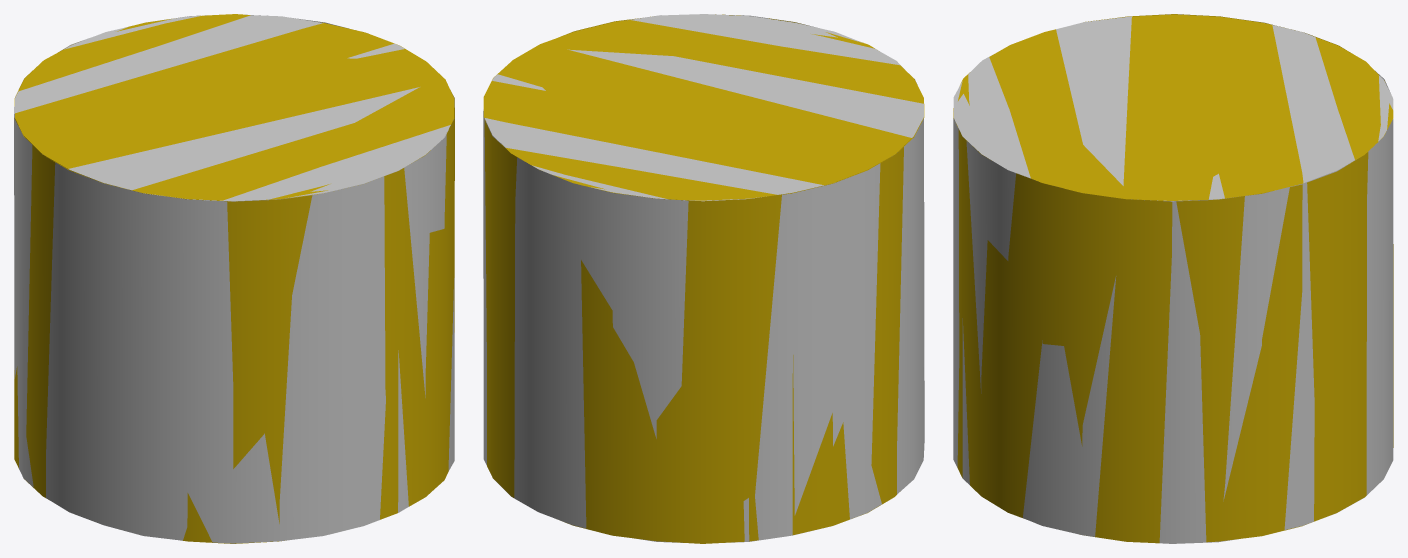
File: original-3.obj
3 renders of one model, left to right at view 1: azimuth 30°, elevation 25°; view 2: azimuth 150°, elevation 25°; view 3: azimuth 270°, elevation 25°, orthographic.
Visible parts, largest first — view 1: group_2/ID26#ID26; view 2: group_2/ID26#ID26; view 3: group_2/ID26#ID26.
Part boxes in pixels (x1=…): group_2/ID26#ID26: x1=14, y1=14, x2=454, y2=543; group_2/ID26#ID26: x1=483, y1=14, x2=924, y2=543; group_2/ID26#ID26: x1=953, y1=14, x2=1393, y2=543.
Size of the model in its own units: 0.0971 by 0.083 by 0.0966.
